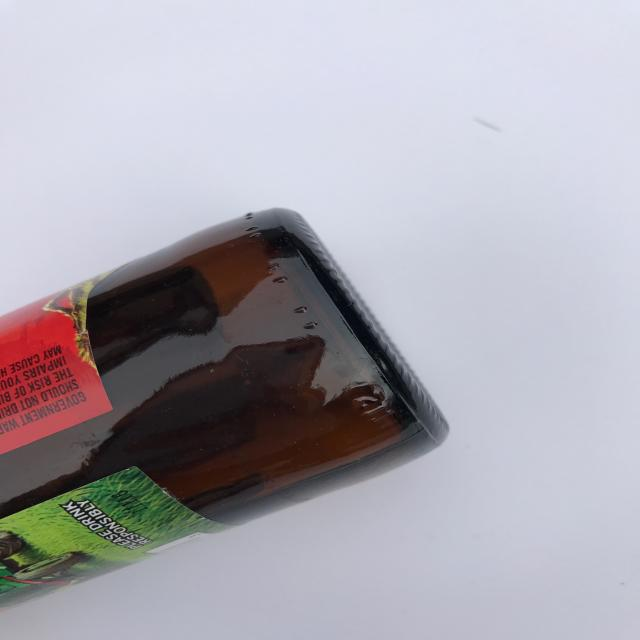glass: (1, 206, 450, 611)
